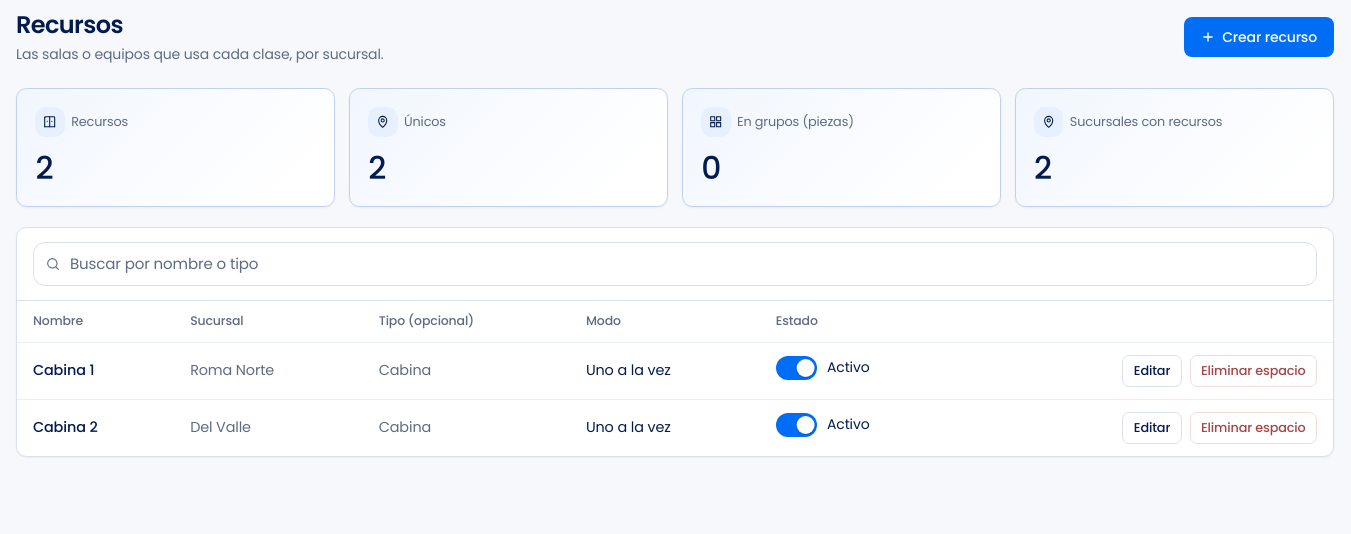
Scenario: salas y equipos › activa y desactiva un espacio; si es el único de un servicio, lo dice
Click the switch labelled "Activo" in the row of "Cabina 1".
click(823, 368)  # box [776, 356, 870, 380]
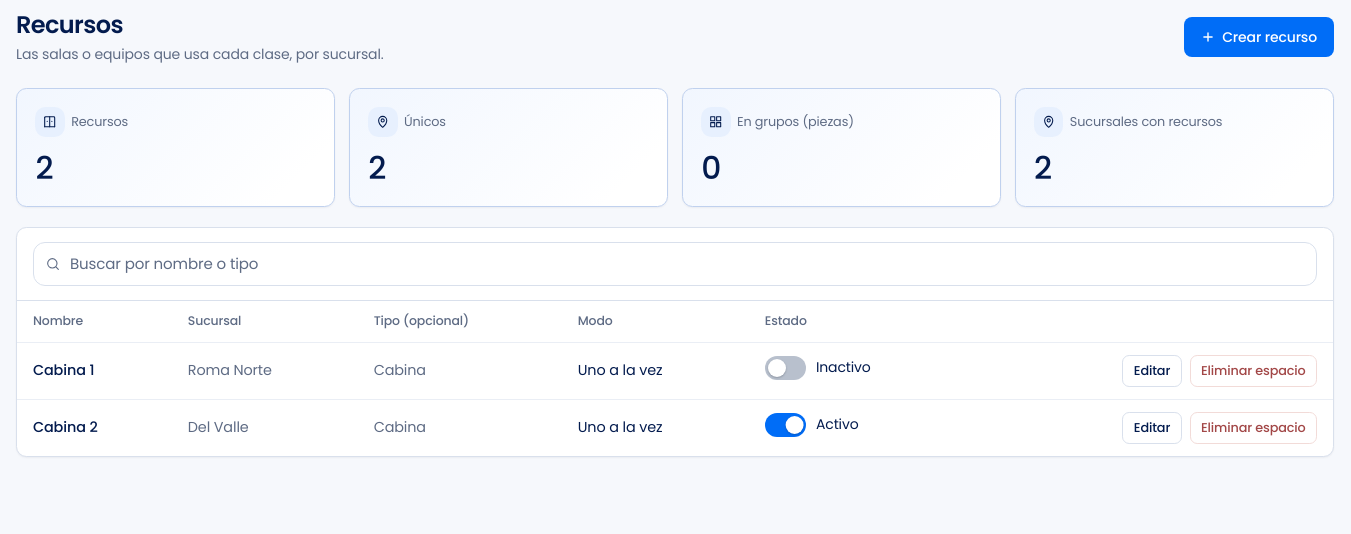
Check: the switch labelled "Inactivo" is not checked, box [765, 356, 871, 380]
Click the switch labelled "Activo".
click(812, 425)  # box [765, 413, 858, 437]
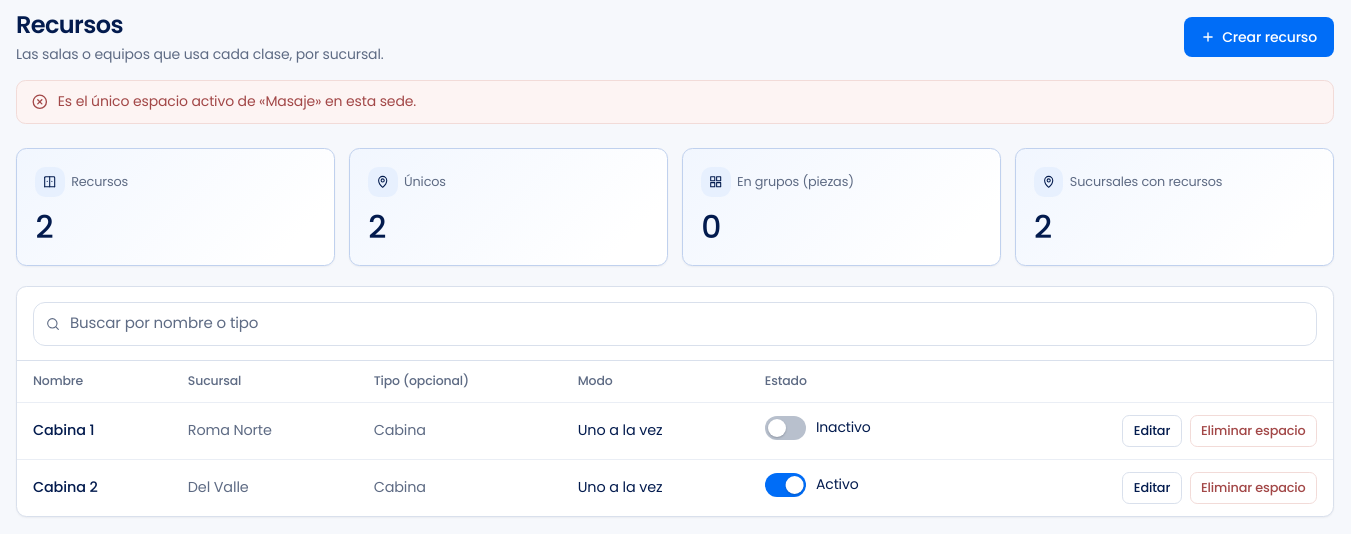
Check: the message "Es el único espacio activo de «Masaje» en esta sede." is shown, box [16, 80, 1334, 124]
